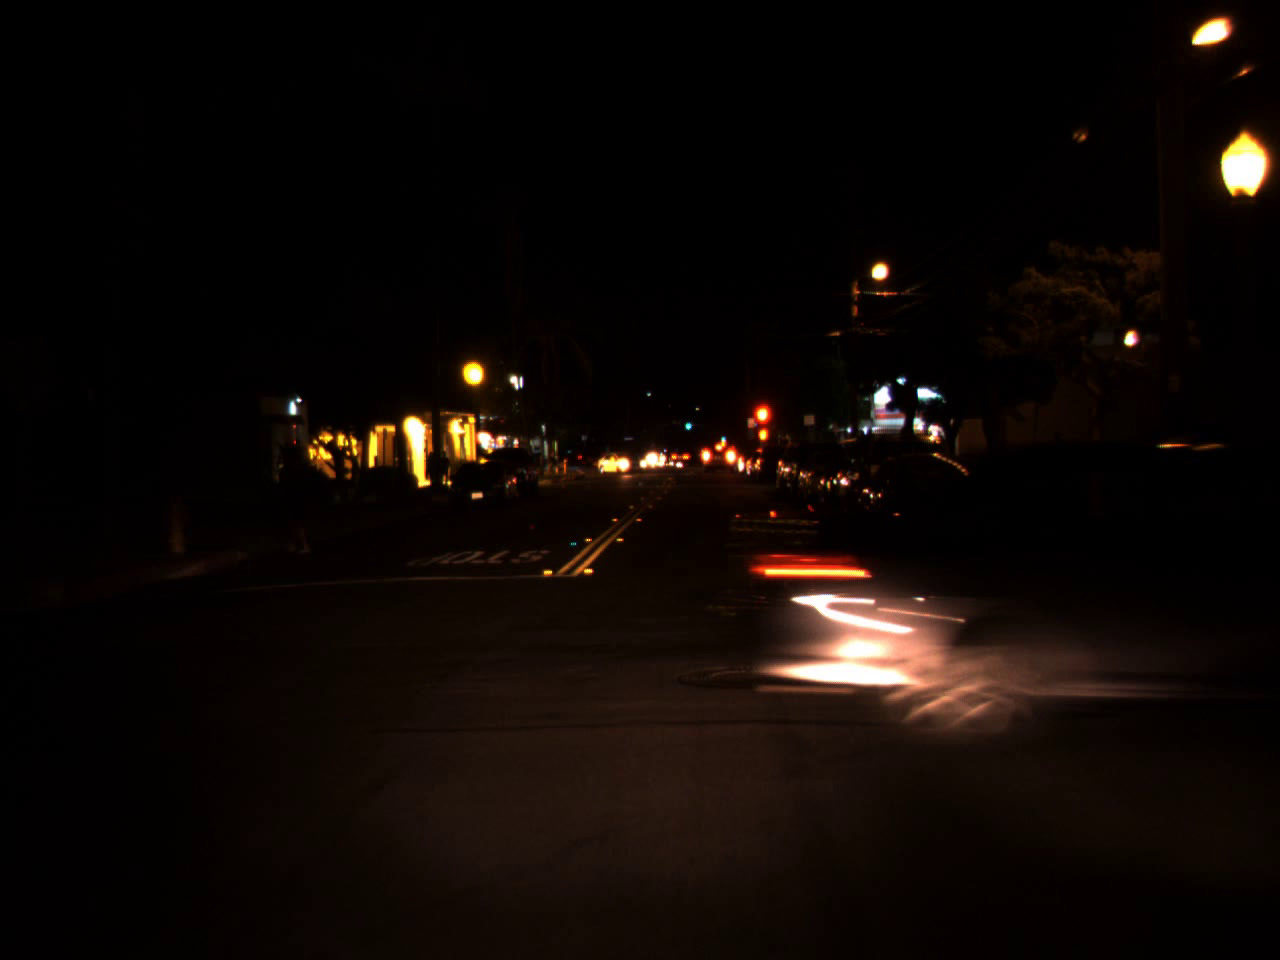go: (683, 415, 692, 433), (719, 430, 726, 442)
stop: (750, 401, 774, 449)
